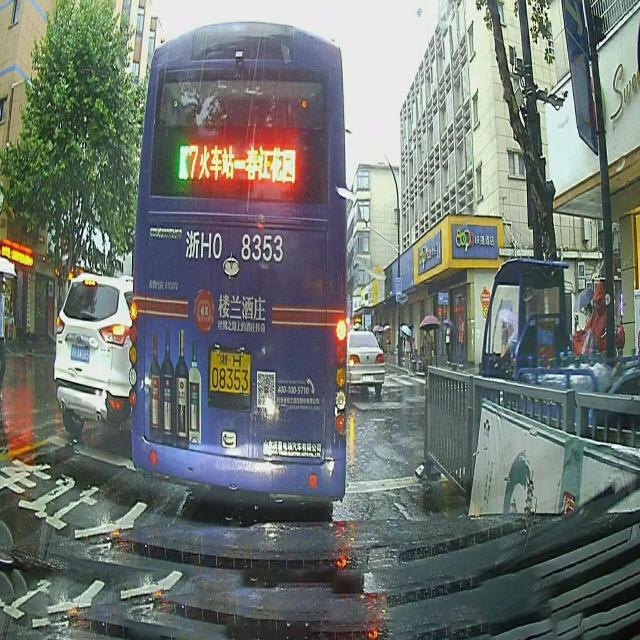car: (54, 271, 131, 430), (346, 328, 384, 397)
